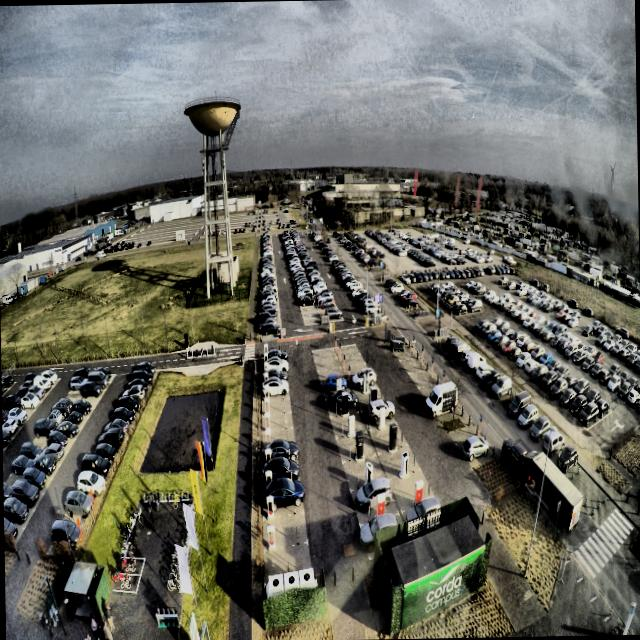cabinet: (268, 568, 314, 591)
car: (263, 477, 306, 514), (263, 456, 301, 486), (264, 438, 301, 464), (262, 377, 289, 396), (264, 356, 289, 373), (263, 368, 288, 382), (264, 349, 288, 362)
parking: (264, 541, 312, 584), (263, 510, 307, 550), (262, 485, 303, 518), (262, 465, 300, 491), (262, 444, 298, 470), (262, 428, 296, 450), (262, 413, 293, 433), (262, 383, 290, 402), (262, 398, 291, 415), (261, 369, 287, 382), (261, 359, 286, 372), (261, 350, 286, 363)
supercharger: (267, 525, 276, 550), (266, 496, 274, 518), (265, 470, 272, 487), (264, 430, 271, 445), (265, 449, 271, 466), (264, 413, 270, 430), (263, 373, 269, 384), (264, 398, 269, 411), (264, 385, 269, 397), (263, 352, 268, 363), (263, 342, 268, 353), (264, 362, 268, 372)
